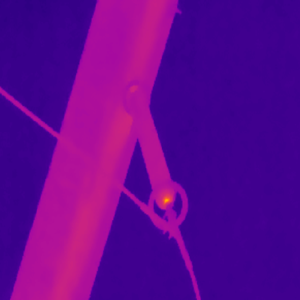insulator: (127, 92, 174, 208)
